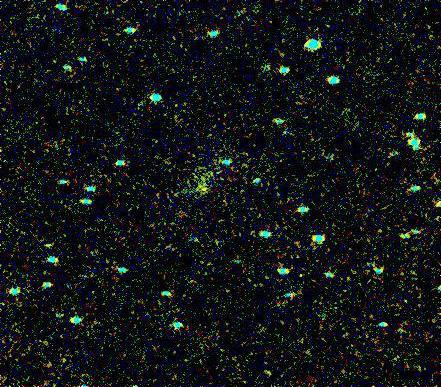star: (190, 178, 220, 208)
